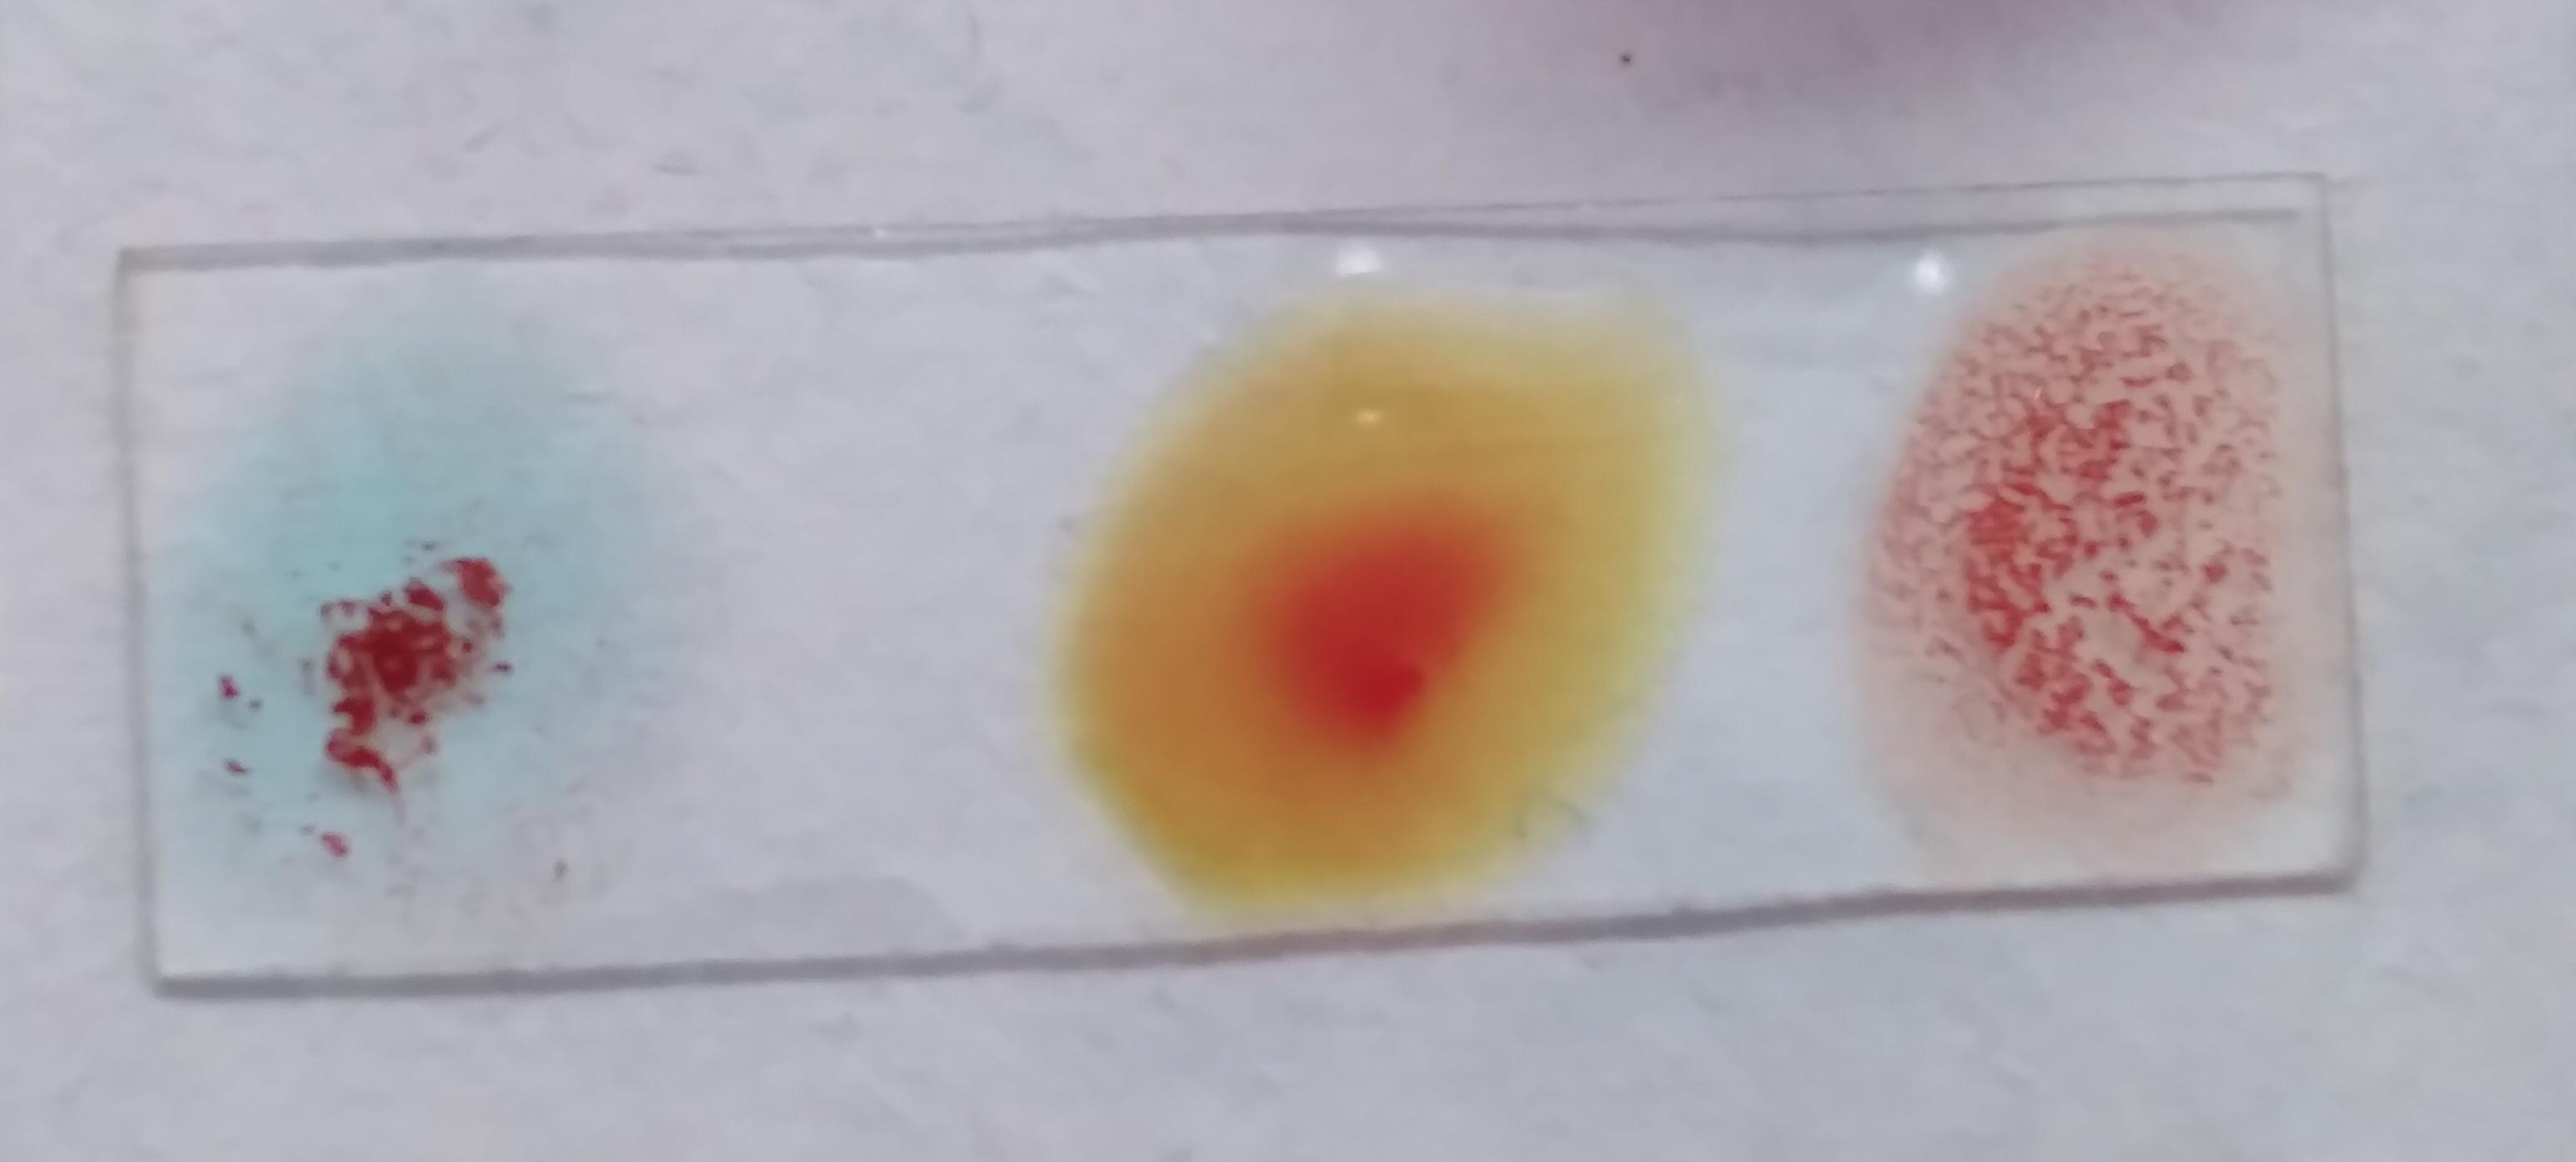A: (164, 316, 637, 884)
D: (1874, 251, 2320, 837)
